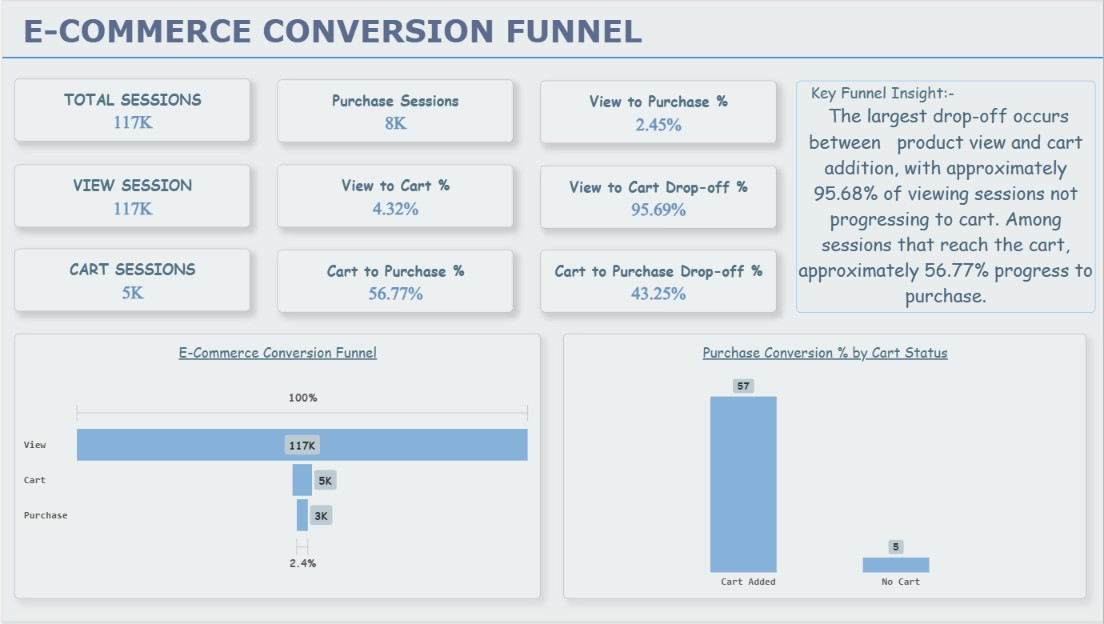

Layout of this report page (visuals, bound fields, positions):
{"tool":"powerbi","page":{"name":"Page 1","canvas":[1920,1080],"ordinal":0},"visuals":[{"type":"clusteredColumnChart","fields":{"Category":["session_funnel.Cart Status"],"Y":["session_funnel.Purchase Conversion %"]},"box":[978.5,579.1,912.2,462.2],"z":0},{"type":"cardVisual","fields":{"Data":["session_funnel.Total Sessions"]},"box":[20.9,134.3,411,109.9],"z":1000},{"type":"cardVisual","fields":{"Data":["session_funnel.View Sessions"]},"box":[20.9,284.3,411,109.9],"z":2000},{"type":"cardVisual","fields":{"Data":["session_funnel.Cart Sessions"]},"box":[20.9,430.8,411,109.9],"z":3000},{"type":"cardVisual","fields":{"Data":["session_funnel.Purchase Sessions"]},"box":[479.7,136,411,109.9],"z":4000},{"type":"cardVisual","fields":{"Data":["session_funnel.View to Purchase %"]},"box":[938.4,137.8,411.6,109.9],"z":5000},{"type":"cardVisual","fields":{"Data":["session_funnel.Cart to Purchase %"]},"box":[479.7,432.6,411,109.9],"z":6000},{"type":"cardVisual","fields":{"Data":["session_funnel.View to Cart %"]},"box":[479.7,284.3,411,109.9],"z":7000},{"type":"funnel","title":"E-Commerce Conversion Funnel","fields":{"Category":["Funnel Stage.Funnel Stage"],"Y":["Funnel Stage.Funnel Sessions"]},"box":[20.9,579.1,917.4,462.2],"z":8000},{"type":"cardVisual","fields":{"Data":["session_funnel.Cart to Purchase Drop-off %"]},"box":[938.4,432.6,411.6,109.9],"z":9000},{"type":"cardVisual","fields":{"Data":["session_funnel.View to Cart Drop-off %"]},"box":[938.4,286,411.6,109.9],"z":10000},{"type":"textbox","box":[1384.9,137.8,521.5,404.7],"z":11000},{"type":"textbox","box":[0,17.4,1151.2,80.2],"z":12000},{"type":"shape","box":[0,78.5,1920.4,38.4],"z":13000}]}

Visuals, with their boxes in screenshot pixels (x1, y1, x2, y2), scaled from the page's 1920x1080 canvas onto the 1104x624 screenshot:
clusteredColumnChart - session_funnel.Cart Status x session_funnel.Purchase Conversion %: (563,335,1087,602)
cardVisual - session_funnel.Total Sessions: (12,78,248,141)
cardVisual - session_funnel.View Sessions: (12,164,248,228)
cardVisual - session_funnel.Cart Sessions: (12,249,248,312)
cardVisual - session_funnel.Purchase Sessions: (276,79,512,142)
cardVisual - session_funnel.View to Purchase %: (540,80,776,143)
cardVisual - session_funnel.Cart to Purchase %: (276,250,512,313)
cardVisual - session_funnel.View to Cart %: (276,164,512,228)
"E-Commerce Conversion Funnel" funnel: (12,335,540,602)
cardVisual - session_funnel.Cart to Purchase Drop-off %: (540,250,776,313)
cardVisual - session_funnel.View to Cart Drop-off %: (540,165,776,229)
textbox: (796,80,1096,313)
textbox: (0,10,662,56)
shape: (0,45,1103,68)
